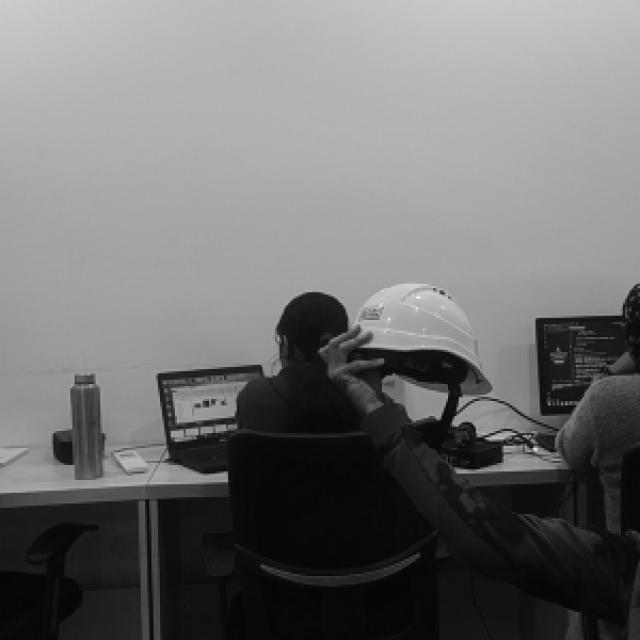safety_helmet: (354, 282, 493, 396)
